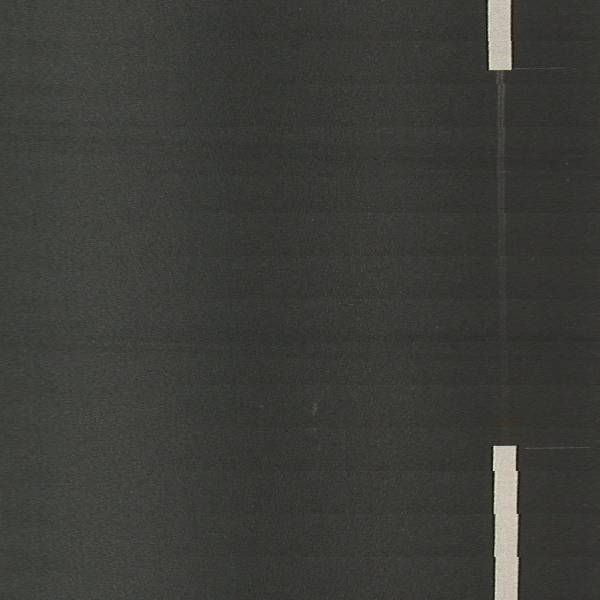road_damage: (32, 330, 310, 367)
